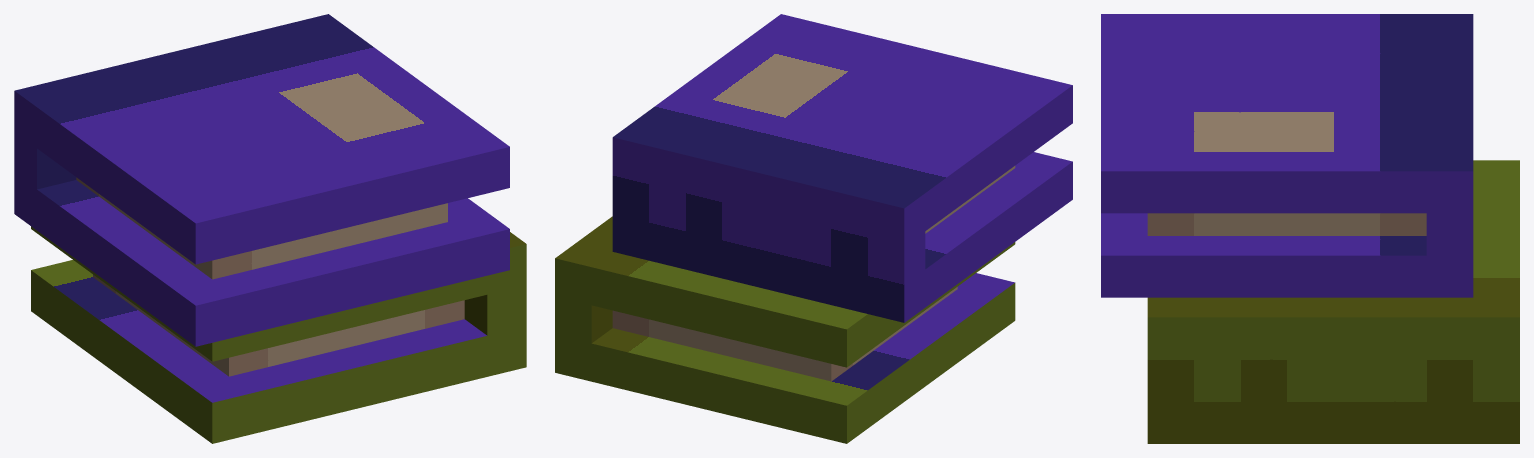
File: int_parlor_books_aao.fezao.glb
3 renders of one model, left to right at view 1: azimuth 30°, elevation 25°; view 2: azimuth 150°, elevation 25°; view 3: azimuth 270°, elevation 25°, orthographic. The views are drawn at different scales.
Parts seen in each view (by area): view 1: INT_PARLOR_BOOKS_AAO; view 2: INT_PARLOR_BOOKS_AAO; view 3: INT_PARLOR_BOOKS_AAO.
Boxes of the visible parts, <box> form: INT_PARLOR_BOOKS_AAO: <box>14,14,526,443</box>; INT_PARLOR_BOOKS_AAO: <box>555,14,1072,443</box>; INT_PARLOR_BOOKS_AAO: <box>1101,14,1519,443</box>.
Bounding box in the file's own units: 0.5625 × 0.375 × 0.5625.
1 material, 1 textured.
